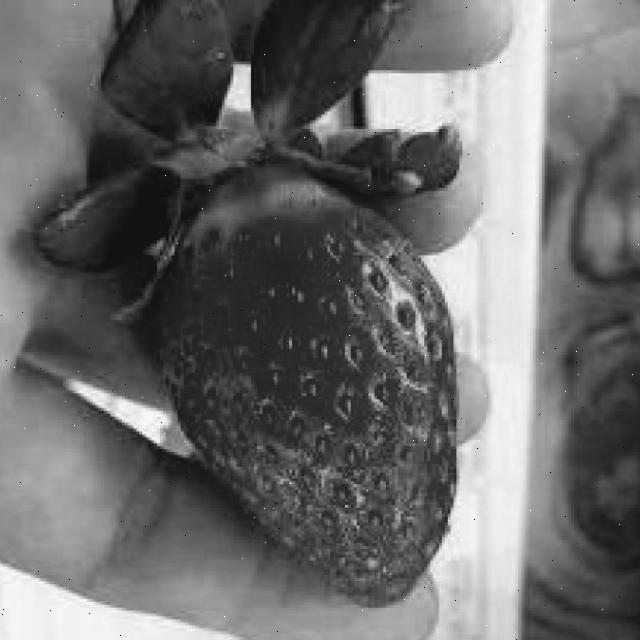ripe: (158, 163, 460, 608)
